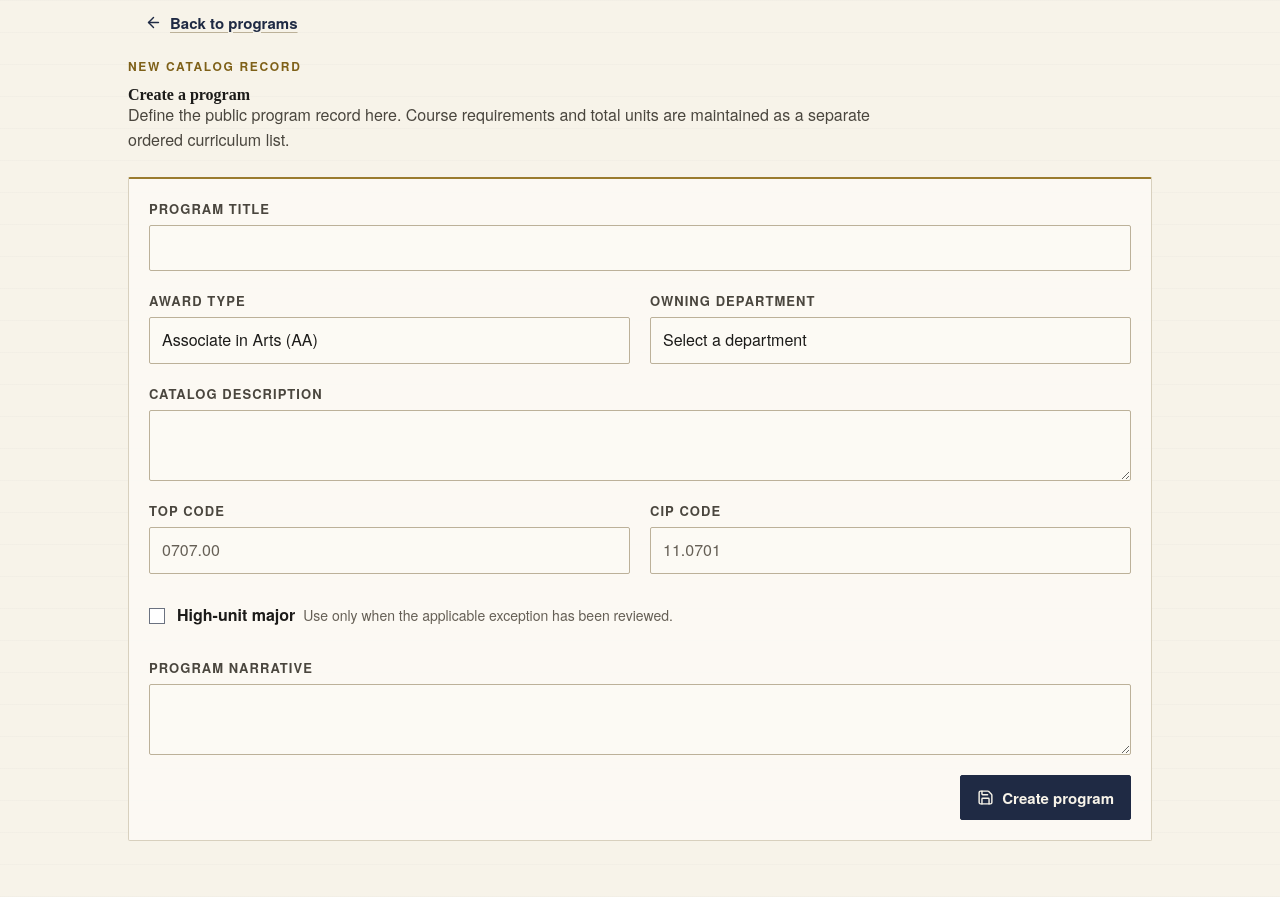
ProgramForm rendering and submission › reports all invalid fields and does not submit
Type "707" into the field labelled "TOP code" at {"x": 390, "y": 550}, box top-left (149, 527), bottom-right (630, 574)
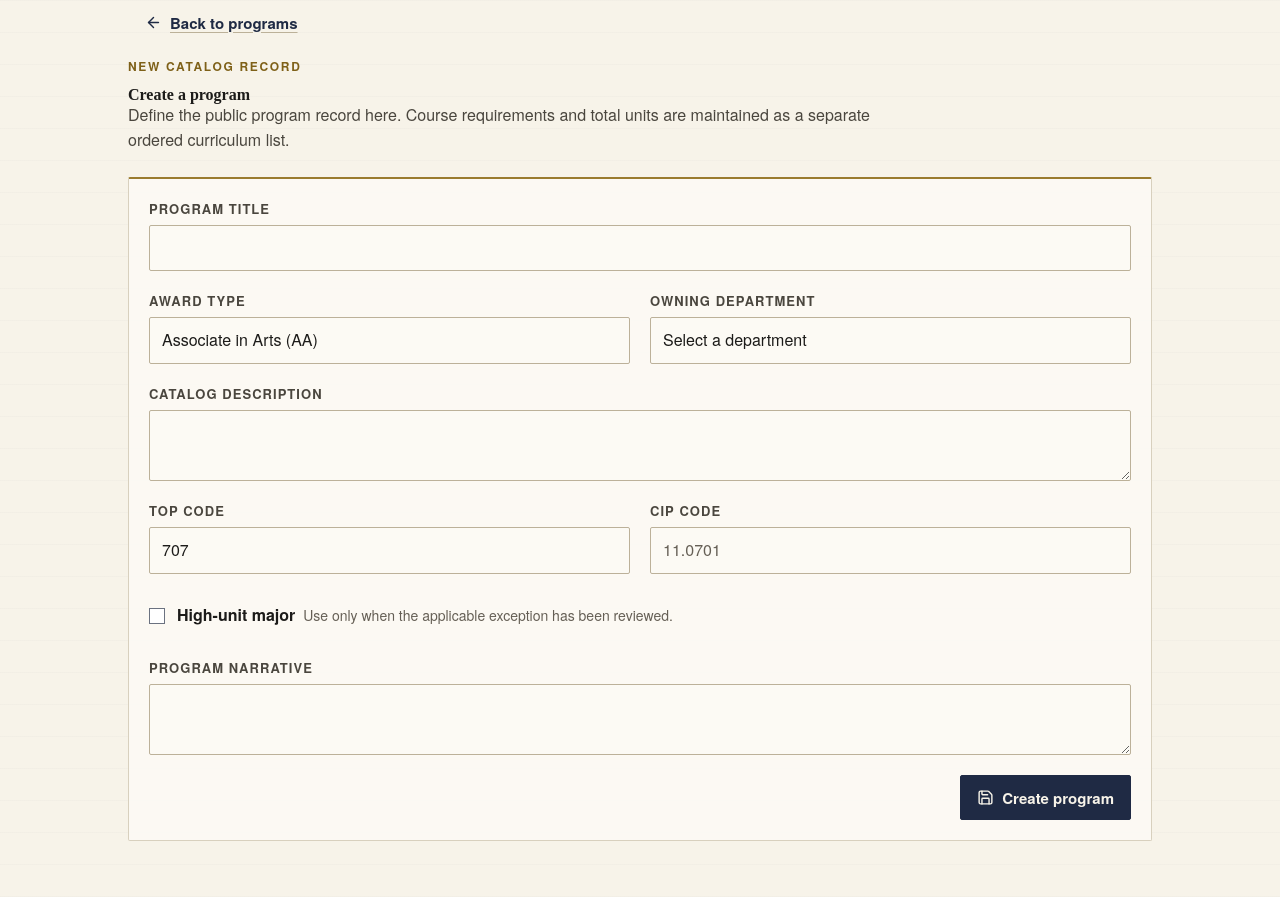
Type "110701" into the field labelled "CIP code" at {"x": 890, "y": 550}, box top-left (650, 527), bottom-right (1131, 574)
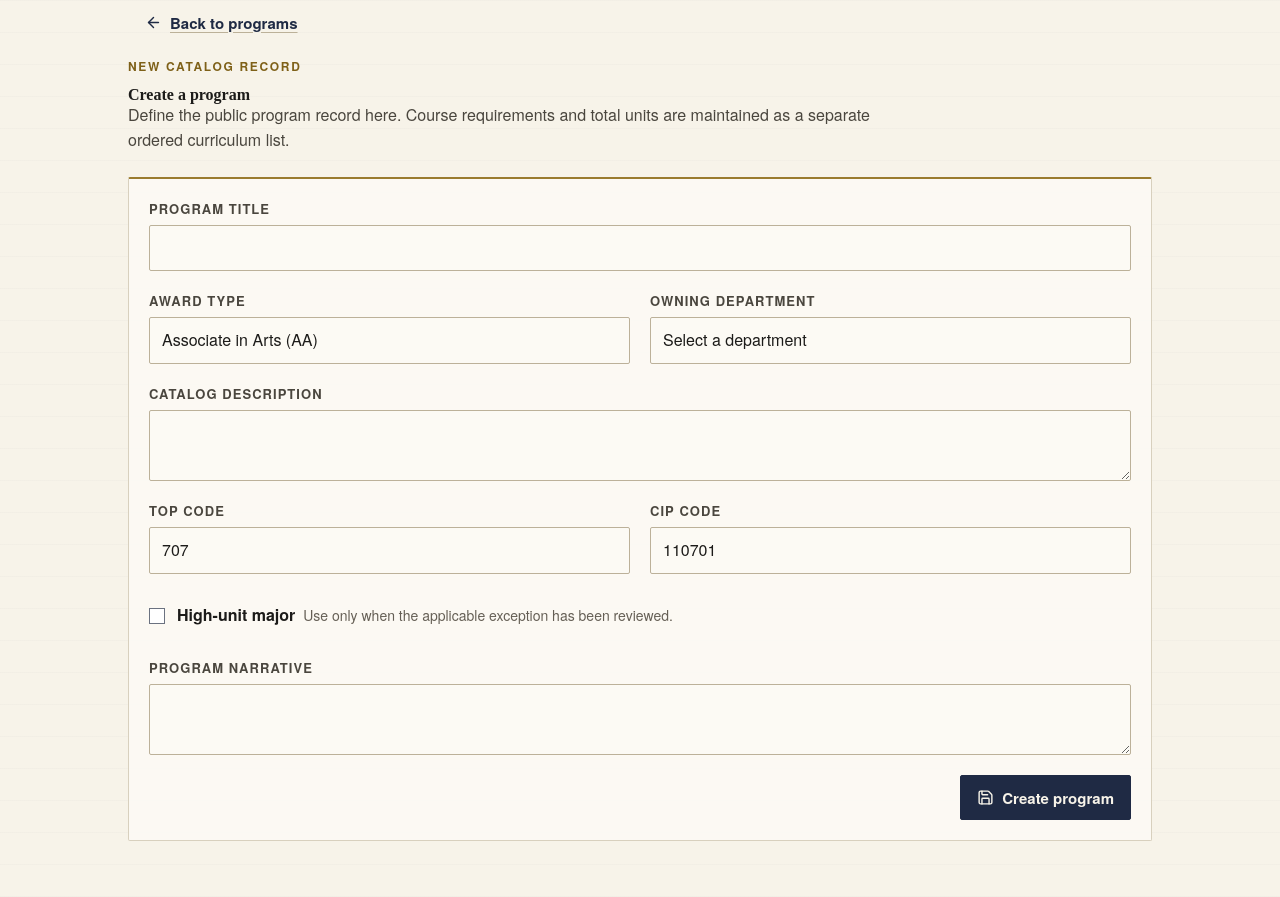
Submit the form with test id "program-form", box top-left (128, 177), bottom-right (1152, 841)
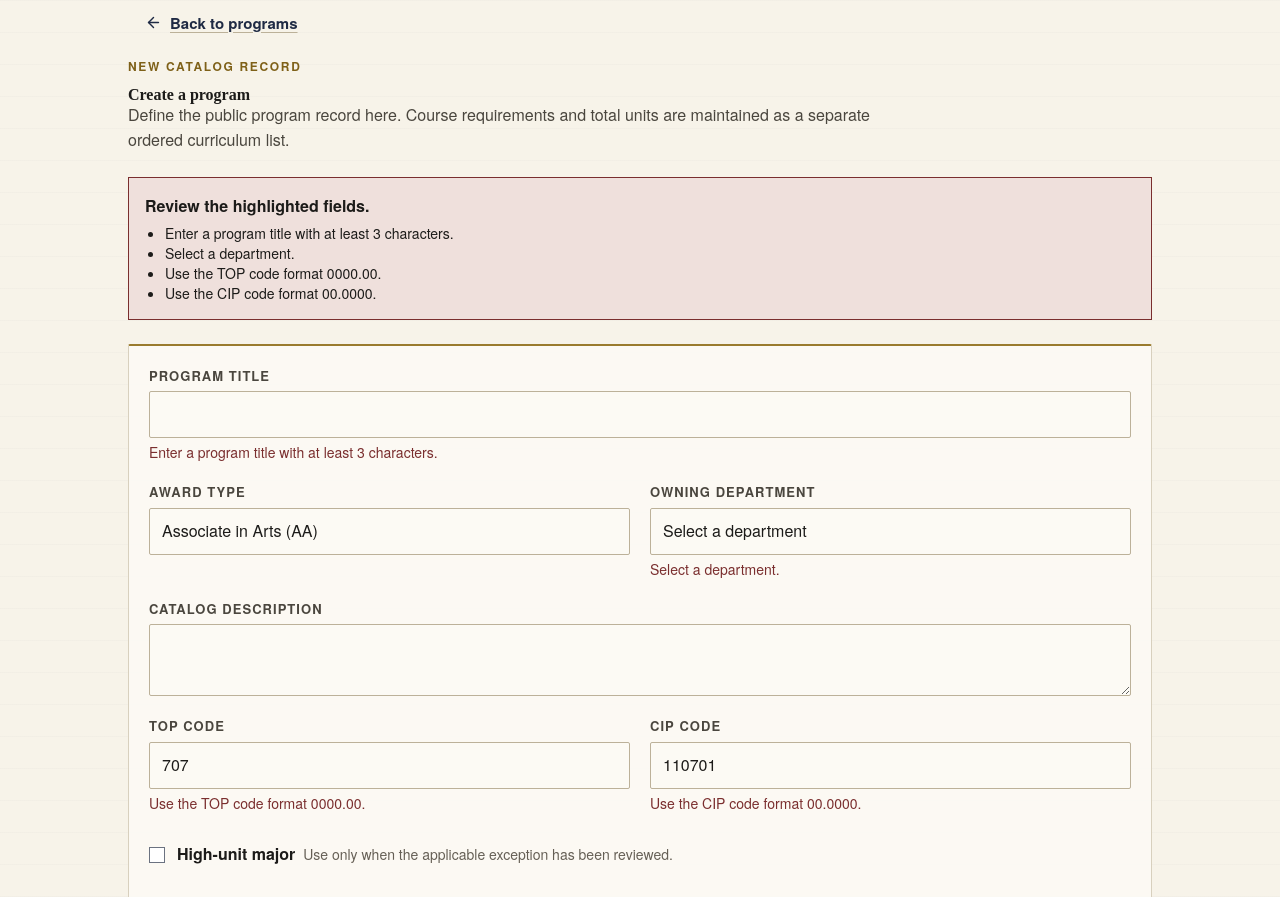
Result: the message shows "Enter a program title with at least 3 characters." at top-left (165, 223), bottom-right (454, 243)
Result: the message shows "Select a department." at top-left (165, 243), bottom-right (295, 263)
Result: the message shows "Use the TOP code format 0000.00." at top-left (165, 263), bottom-right (381, 283)
